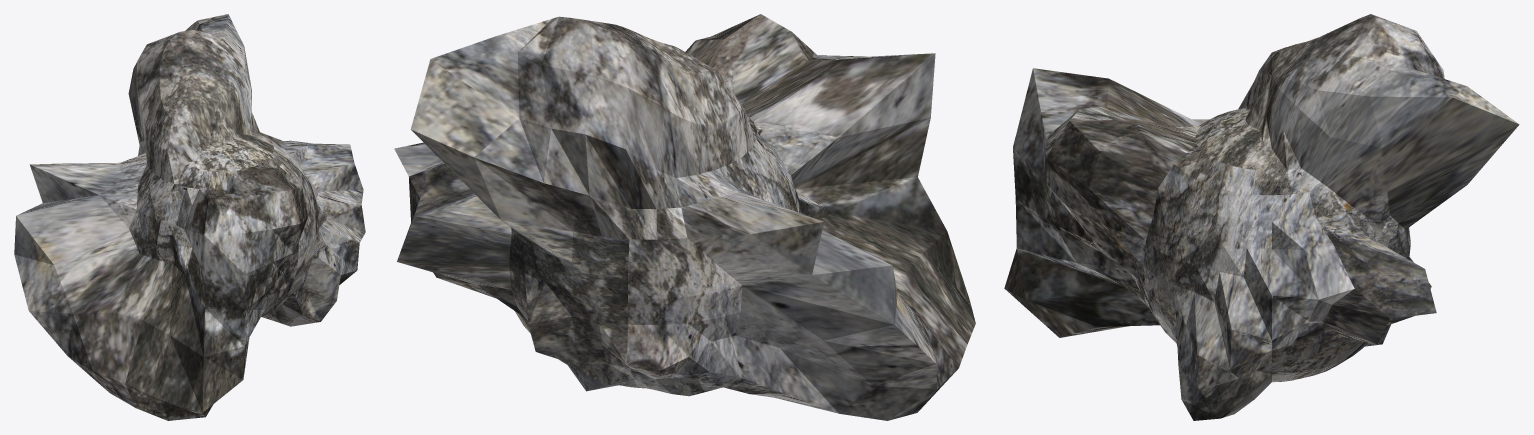
The model's file is ast1.obj.
The picture shows the model from 3 angles, left to right: view 1: azimuth 30°, elevation 25°; view 2: azimuth 150°, elevation 25°; view 3: azimuth 270°, elevation 25°; orthographic projection. The views are drawn at different scales.
Visible parts, largest first — view 1: Sphere; view 2: Sphere; view 3: Sphere.
Boxes of the visible parts, bbox=[...] form: Sphere: bbox=[14, 14, 365, 420]; Sphere: bbox=[394, 14, 975, 420]; Sphere: bbox=[1004, 14, 1519, 420].
Size of the model in its own units: 1.92 by 1.53 by 1.85.
1 material, 1 textured.
